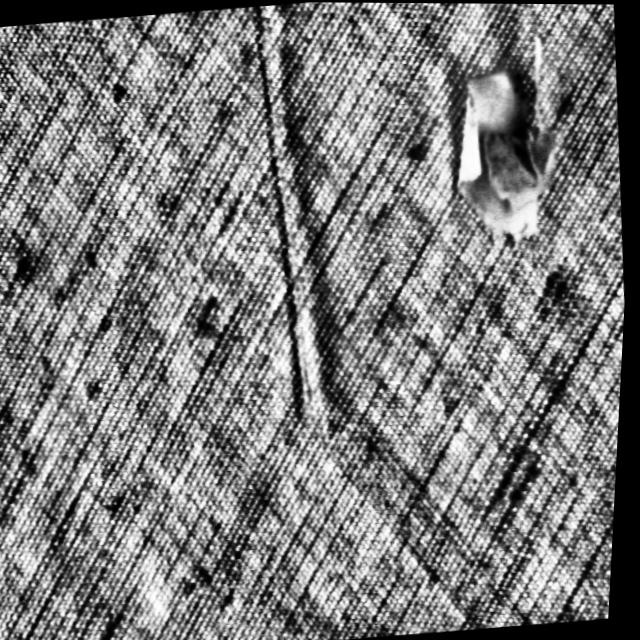Stitch: (218, 5, 371, 440), (429, 30, 593, 255)
